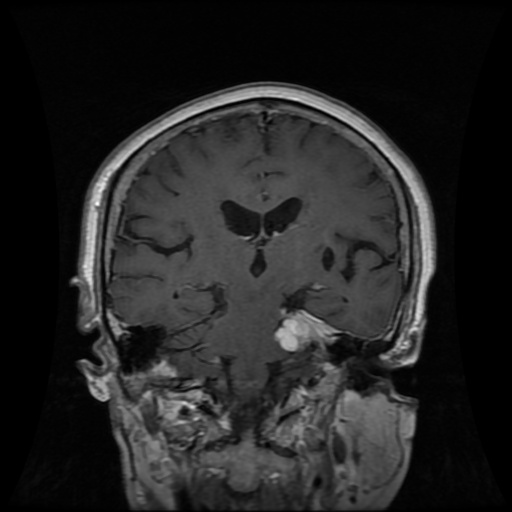meningioma: (273, 309, 342, 351)
